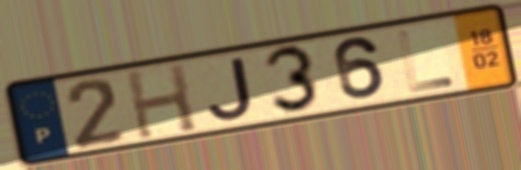2: (63, 75, 131, 151)
3: (261, 42, 324, 117)
6: (331, 35, 388, 104)
H: (122, 60, 201, 142)
J: (205, 54, 257, 123)
L: (394, 28, 458, 95)
